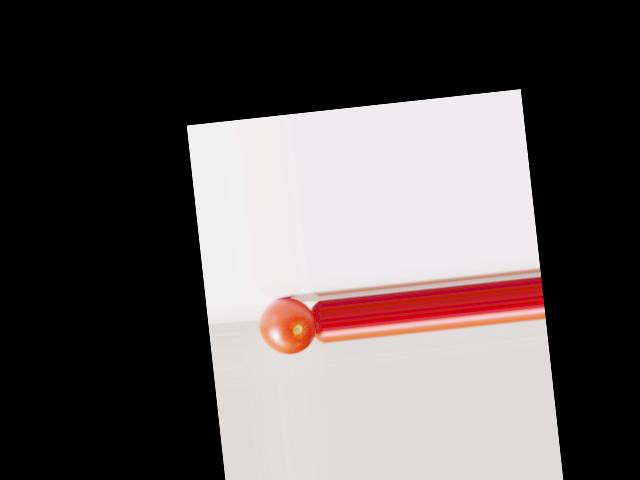tomato: (256, 295, 318, 357)
